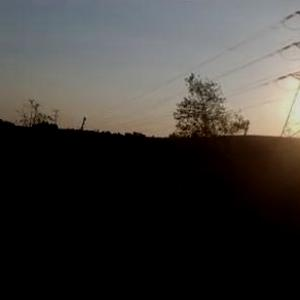follow: (141, 152, 197, 299)
